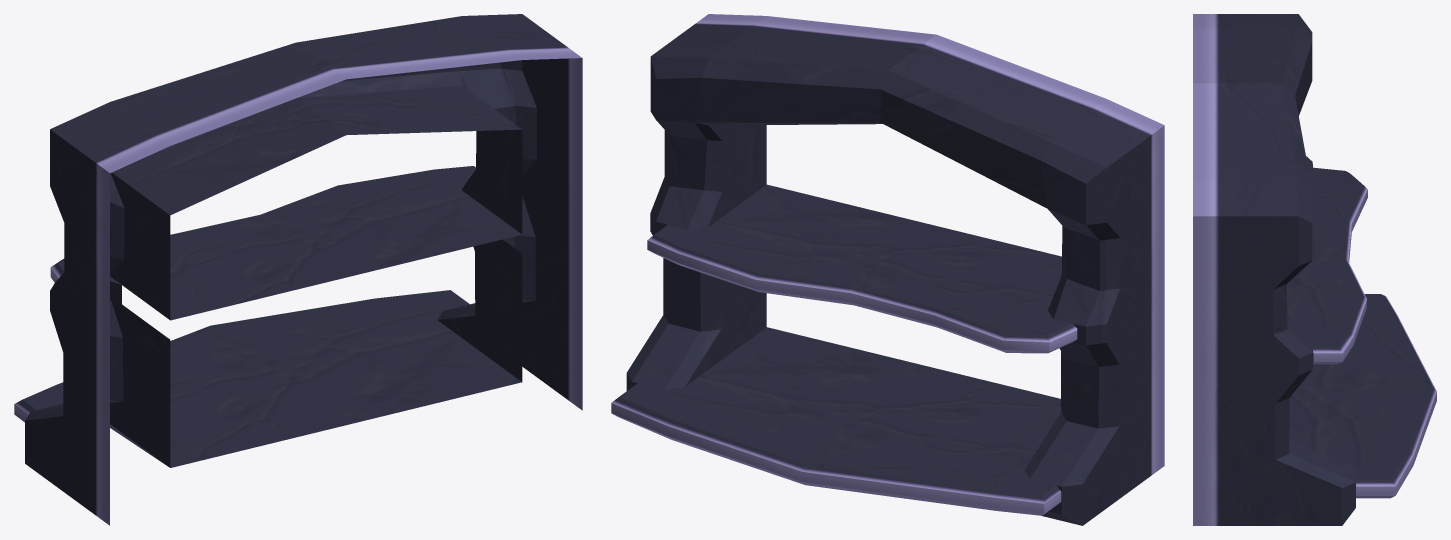
Rendered from MOD_ShelfCabinet.fbx.
The picture shows the model from 3 angles, left to right: view 1: azimuth 30°, elevation 25°; view 2: azimuth 150°, elevation 25°; view 3: azimuth 270°, elevation 25°; orthographic projection. The views are drawn at different scales.
Parts seen in each view (by area): view 1: MOD_ShelfCabinet; view 2: MOD_ShelfCabinet; view 3: MOD_ShelfCabinet.
Boxes of the visible parts, <box> form: MOD_ShelfCabinet: <box>14,14,582,525</box>; MOD_ShelfCabinet: <box>611,14,1164,525</box>; MOD_ShelfCabinet: <box>1193,14,1436,525</box>.
Bounding box in the file's own units: 100 × 78.68 × 50.94.
Materials: 1 (1 with a texture image).
